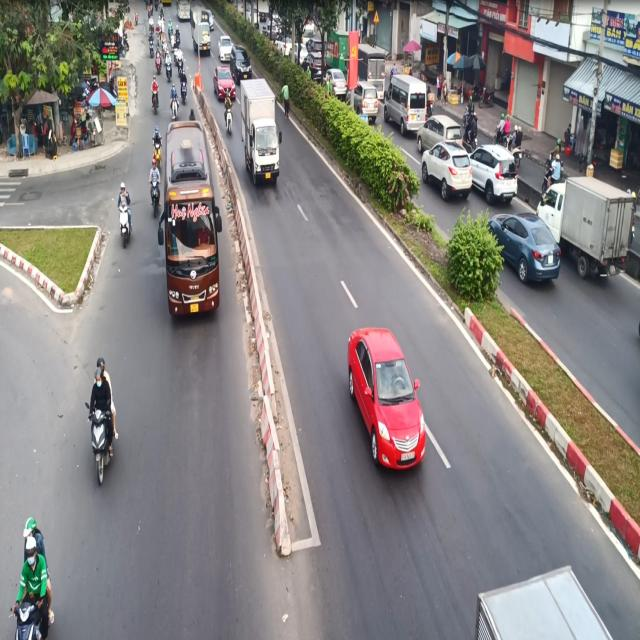bus: (158, 121, 221, 322)
car: (345, 324, 432, 488), (212, 62, 234, 106), (232, 41, 252, 81)
motor: (86, 358, 118, 490), (117, 181, 136, 247)
truck: (241, 71, 279, 183)
